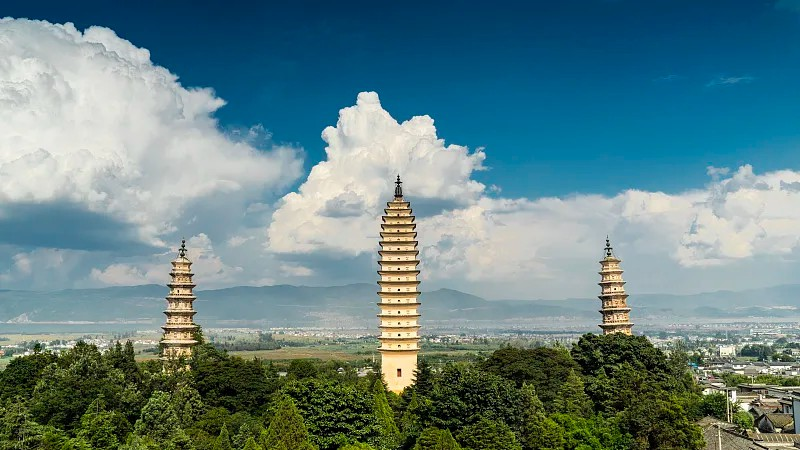ThreePagoda: (377, 173, 421, 392)
